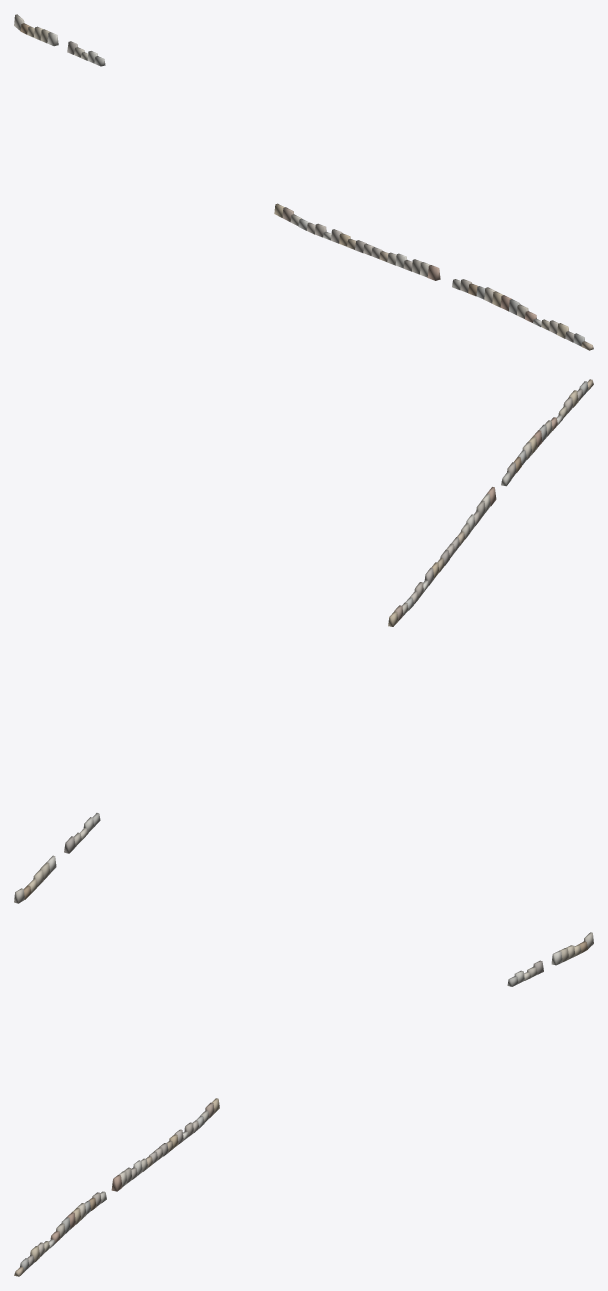
Rendered from farm_5_15_collision.glb.
3 renders of one model, top to bottom at view 1: azimuth 30°, elevation 25°; view 2: azimuth 150°, elevation 25°; view 3: azimuth 330°, elevation 25°, orthographic.
Visible parts, largest first — view 1: geometry_0; view 2: geometry_0; view 3: geometry_0.
Part boxes in pixels (<box>): geometry_0: <box>14,14,593,350</box>; geometry_0: <box>14,379,593,903</box>; geometry_0: <box>14,932,593,1276</box>.
Size of the model in its own units: 8.77 by 13.35 by 136.
